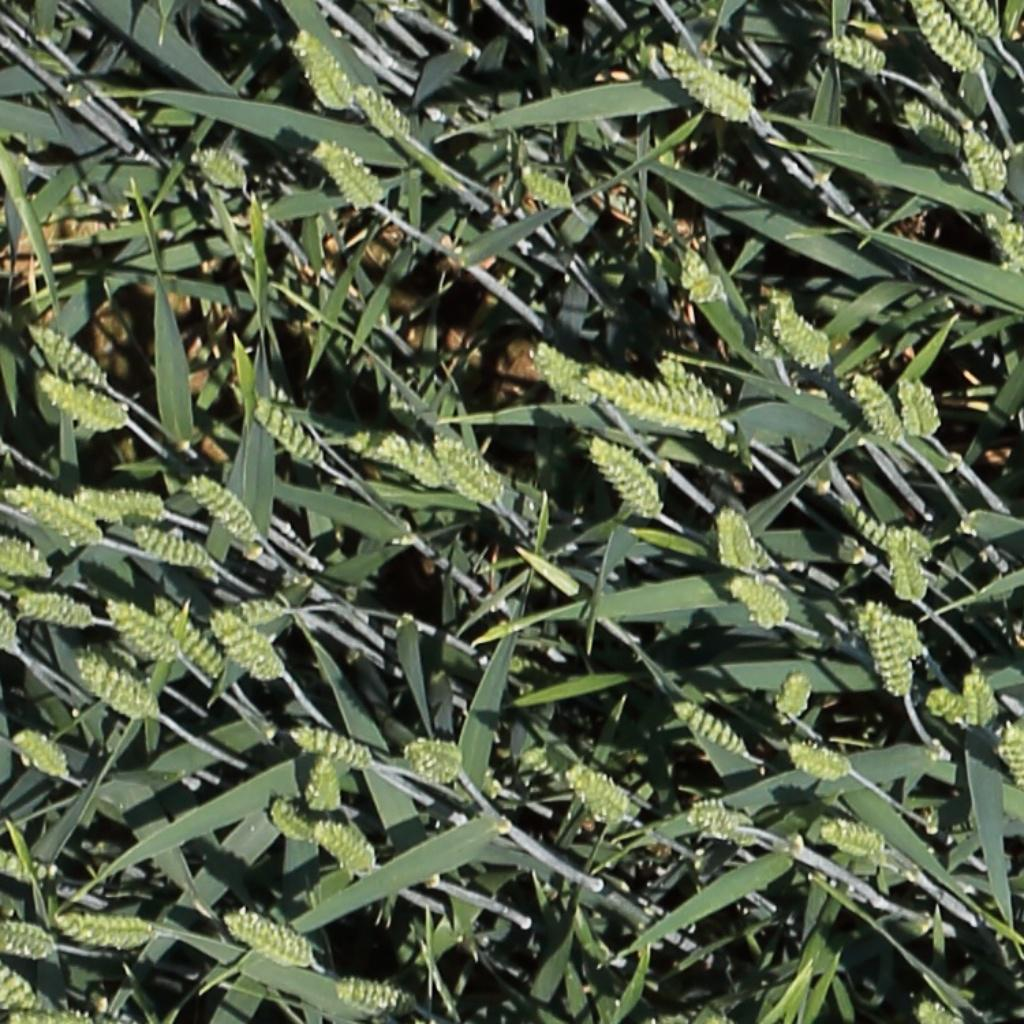0-0: (585, 364, 725, 435), (146, 592, 234, 687), (658, 40, 756, 125), (3, 477, 106, 548), (72, 645, 164, 723), (585, 436, 667, 523), (289, 25, 358, 113), (221, 906, 317, 969), (857, 597, 915, 699), (105, 593, 186, 665), (206, 611, 287, 682), (182, 473, 261, 545), (909, 1, 983, 76), (247, 395, 323, 468), (24, 320, 107, 386), (34, 375, 130, 432), (312, 139, 387, 211), (527, 340, 605, 406), (562, 760, 641, 823), (56, 905, 161, 949), (848, 371, 906, 448), (431, 430, 491, 504), (848, 609, 931, 661), (772, 307, 837, 373), (673, 701, 748, 758), (309, 820, 378, 880), (127, 521, 211, 570), (288, 727, 378, 771), (714, 505, 769, 575), (653, 356, 724, 410), (753, 289, 804, 362), (330, 971, 413, 1015), (883, 526, 931, 602), (348, 80, 409, 139), (724, 576, 790, 630), (817, 814, 892, 861), (675, 237, 723, 307), (960, 127, 1008, 196), (399, 733, 466, 782), (13, 589, 96, 628), (9, 728, 70, 779), (899, 372, 945, 439), (687, 799, 754, 844), (902, 99, 965, 146), (450, 449, 504, 502), (785, 741, 854, 782), (980, 211, 1024, 275), (263, 794, 316, 847), (962, 660, 1002, 730), (0, 529, 53, 580), (0, 918, 58, 964), (304, 750, 345, 815), (516, 163, 573, 207), (774, 667, 817, 724), (822, 37, 887, 74), (991, 721, 1024, 791), (190, 143, 245, 185), (345, 429, 405, 467), (69, 487, 127, 526), (950, 0, 1002, 43), (0, 960, 42, 1012), (405, 433, 444, 487), (920, 684, 971, 724), (114, 484, 169, 520), (842, 499, 883, 547), (1, 851, 58, 885), (236, 597, 294, 629), (9, 1005, 89, 1024), (1, 605, 25, 659), (913, 1000, 965, 1024), (903, 525, 934, 563)
